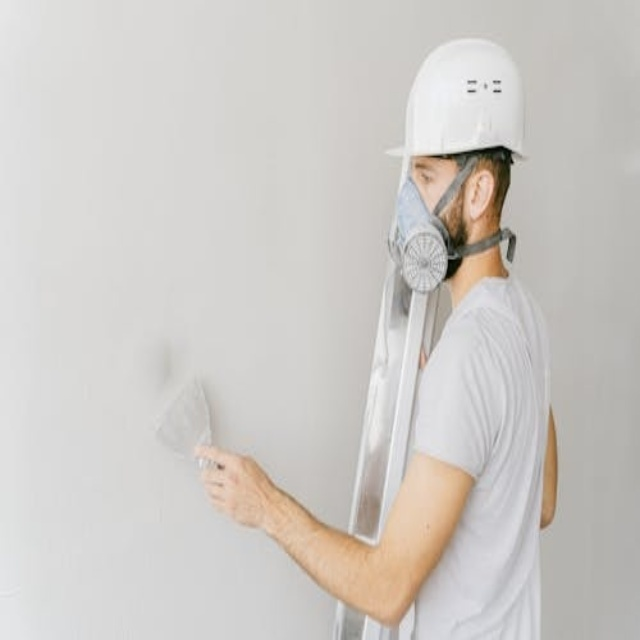Mascara: (392, 166, 458, 292)
Sin_gafas: (418, 171, 435, 184)
Sin_guantes: (193, 432, 276, 538)
